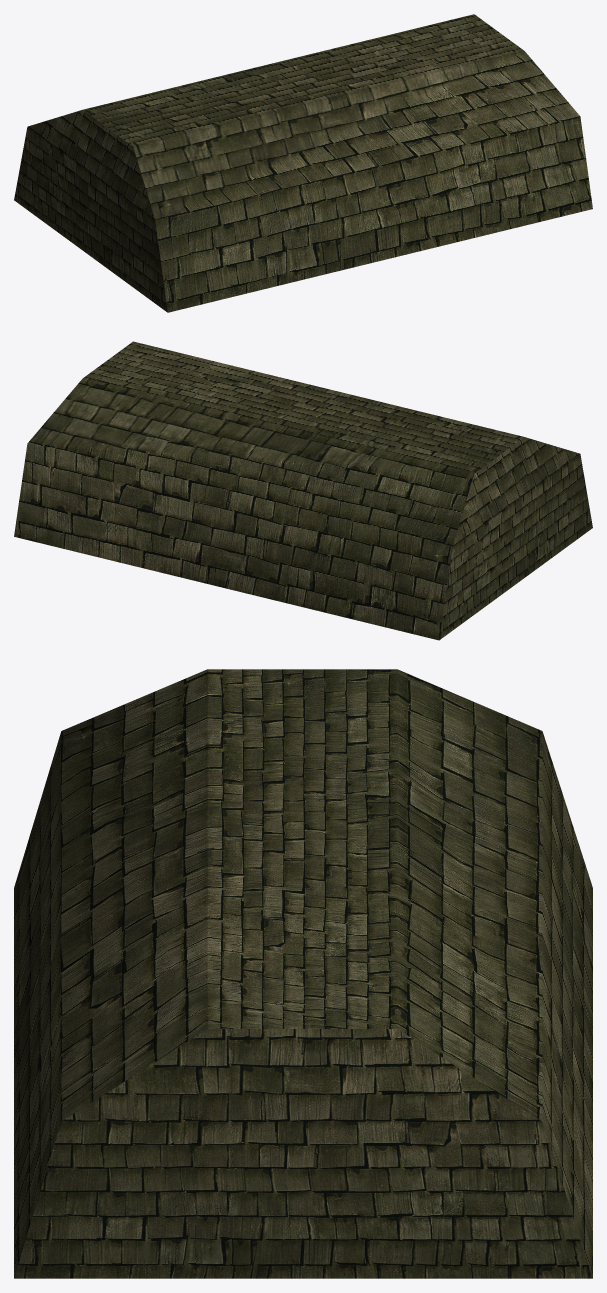
File: Roof.fbx
3 renders of one model, top to bottom at view 1: azimuth 30°, elevation 25°; view 2: azimuth 150°, elevation 25°; view 3: azimuth 270°, elevation 25°, orthographic. The views are drawn at different scales.
Parts seen in each view (by area): view 1: polySurface216; view 2: polySurface216; view 3: polySurface216.
Boxes of the visible parts, x1,y1,x2,y2 form: polySurface216: (14,14,592,312); polySurface216: (14,341,592,640); polySurface216: (14,669,592,1278).
Size of the model in its own units: 40.92 by 11.45 by 25.63.
